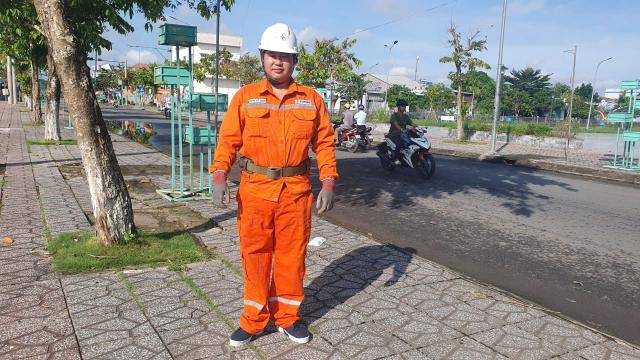gloves: (206, 162, 237, 210), (309, 176, 340, 215)
harness: (231, 151, 319, 188)
helmet: (255, 20, 308, 60)
shoes: (215, 313, 268, 352), (277, 314, 316, 349)
